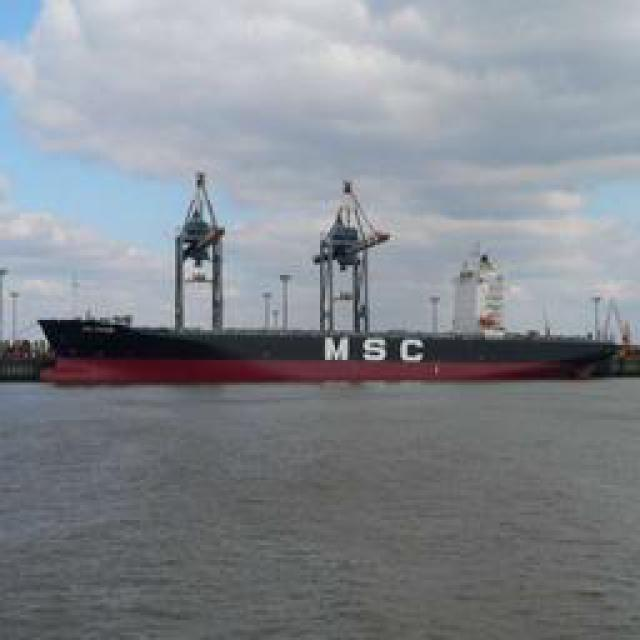Ship: (23, 321, 611, 384)
